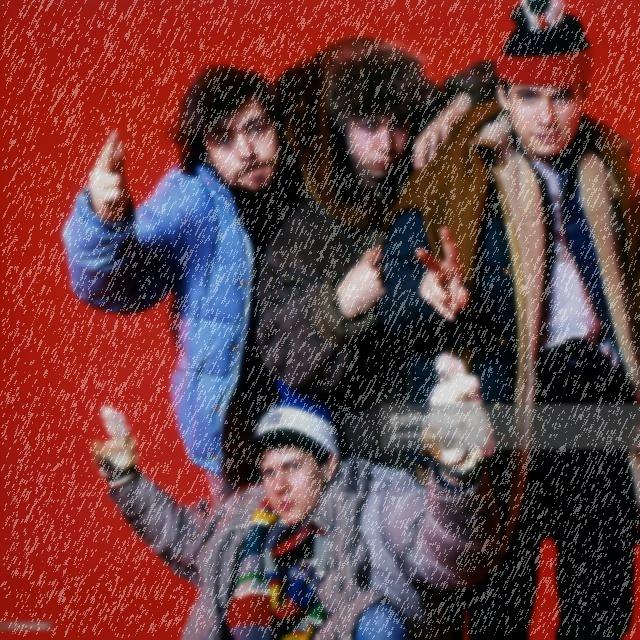pessoa: (384, 0, 639, 640), (83, 350, 500, 640), (58, 59, 307, 514), (252, 36, 502, 473)
